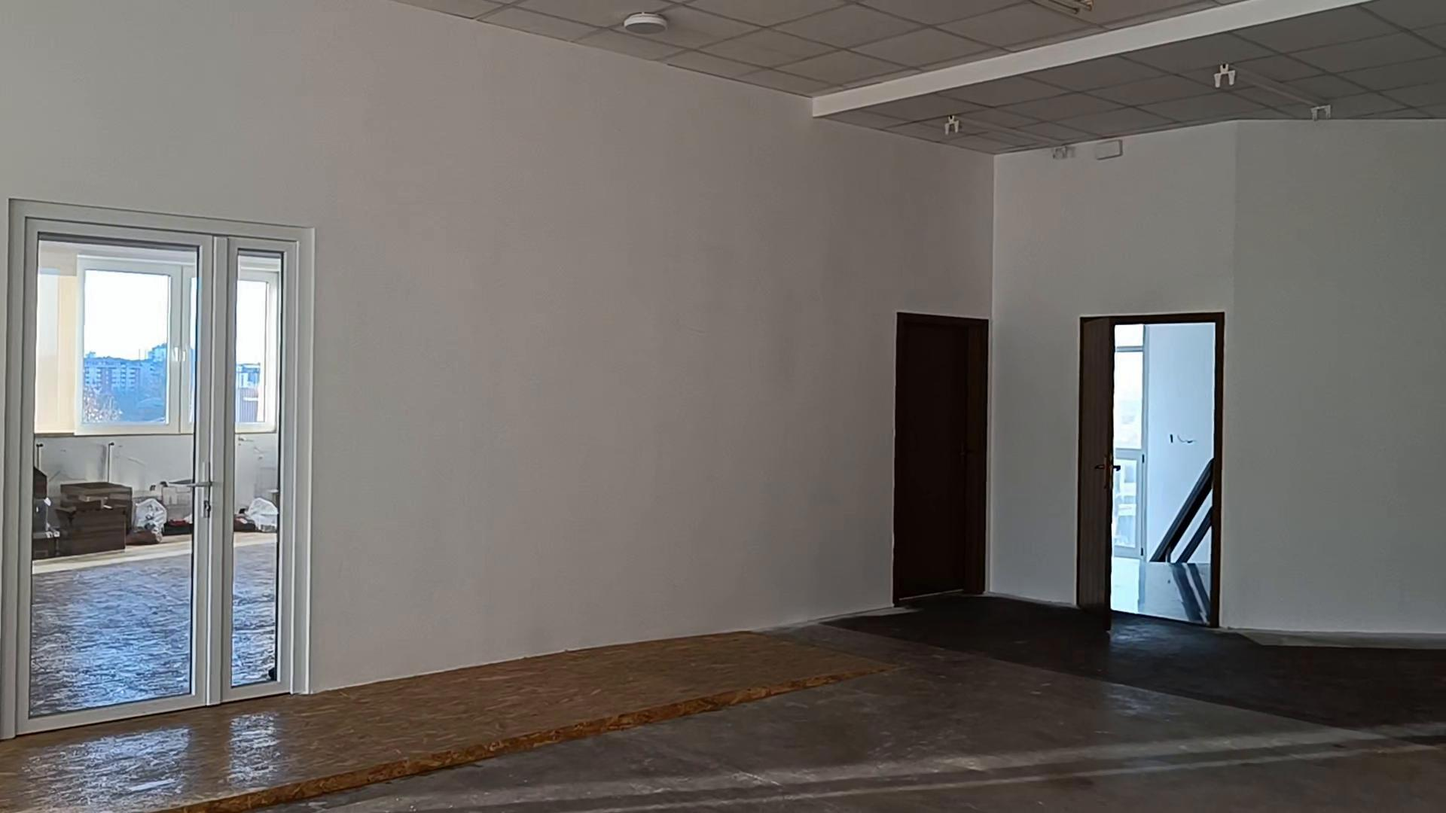ceiling: (399, 0, 1445, 152)
floor: (0, 597, 1445, 812)
wall: (0, 0, 1445, 690)
